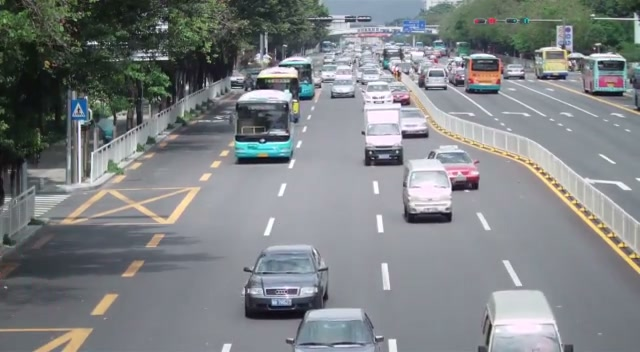bus: (233, 89, 294, 163), (255, 66, 300, 121), (580, 53, 626, 96), (278, 57, 315, 100), (465, 53, 503, 93), (534, 47, 569, 80)
car: (241, 244, 329, 318), (477, 289, 573, 352), (284, 307, 388, 352), (401, 160, 454, 223), (427, 146, 480, 189), (363, 119, 404, 166), (399, 106, 429, 138), (330, 73, 356, 98), (422, 67, 448, 91), (389, 83, 411, 104), (505, 63, 526, 79)
truck: (362, 102, 404, 166), (581, 53, 626, 96), (534, 46, 569, 80)
